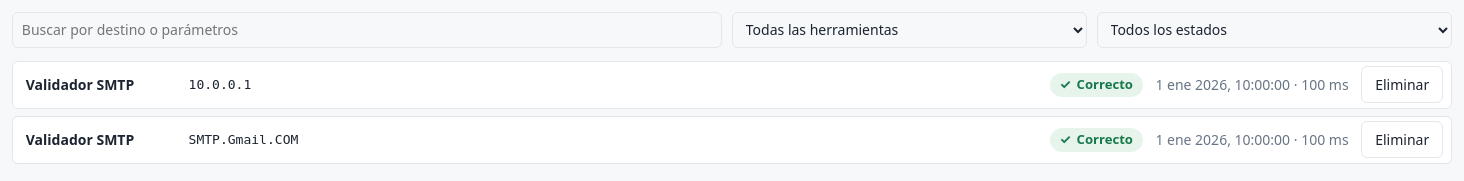
it: filtro por texto › no distingue mayúsculas
In the search field named "Buscar en el historial": (367, 30) [12,12,722,48], type "gmail"
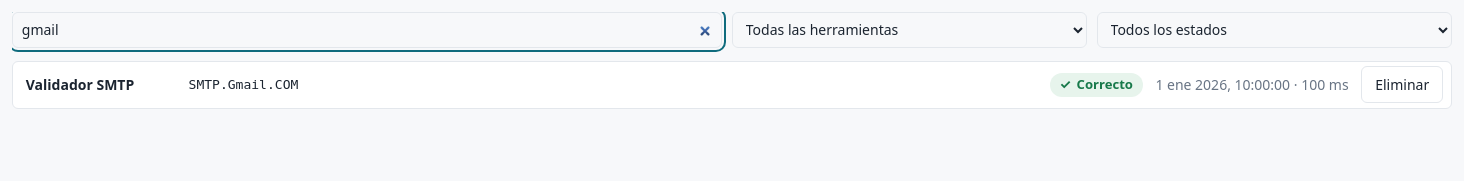
Expected: the number of list items is 1, [12,61,1452,109]
